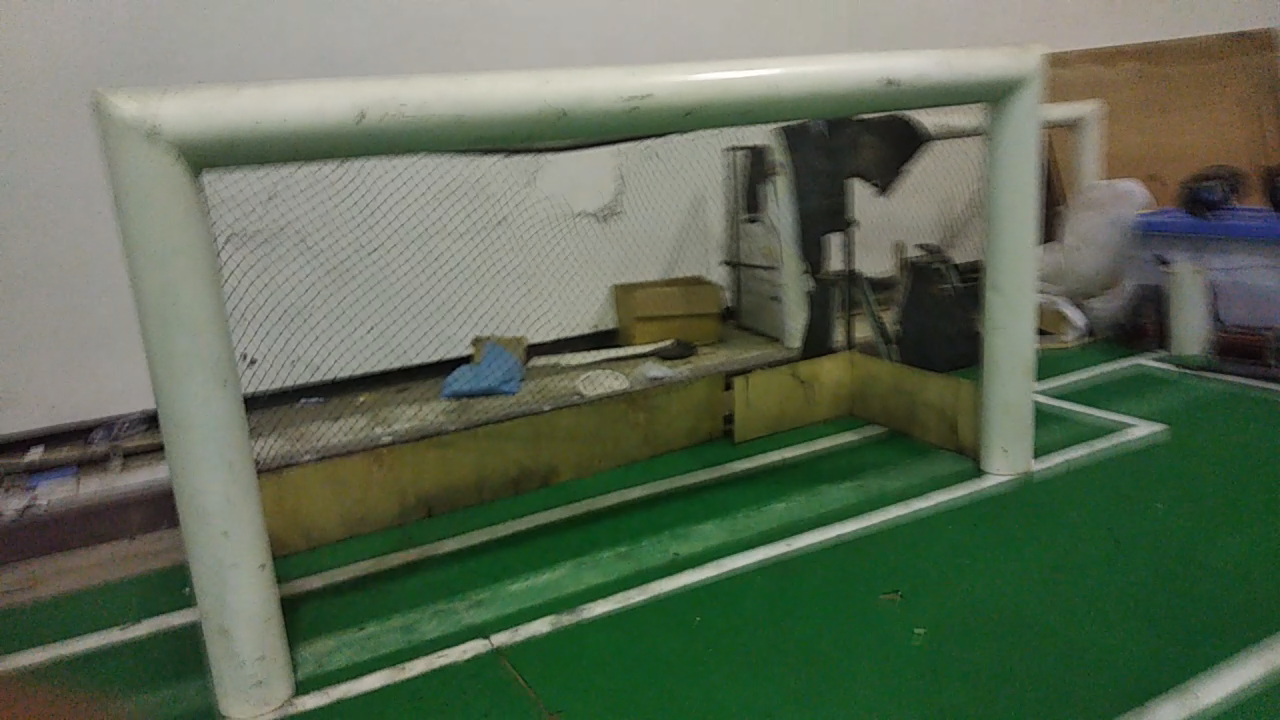gawang: (82, 27, 1050, 719)
